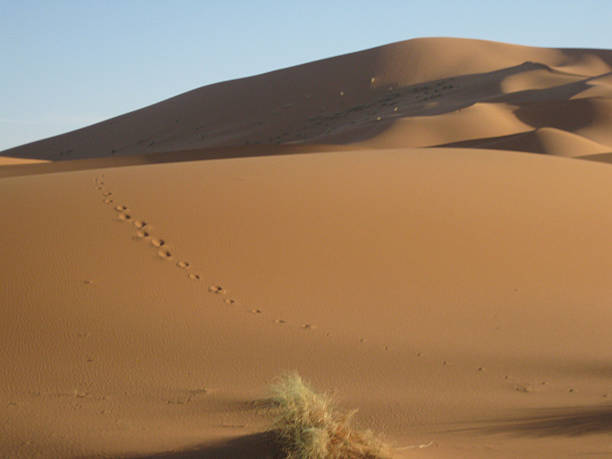human_foot_print: (96, 178, 200, 280), (96, 177, 174, 259), (113, 204, 174, 259), (157, 248, 172, 259), (177, 260, 190, 268)
